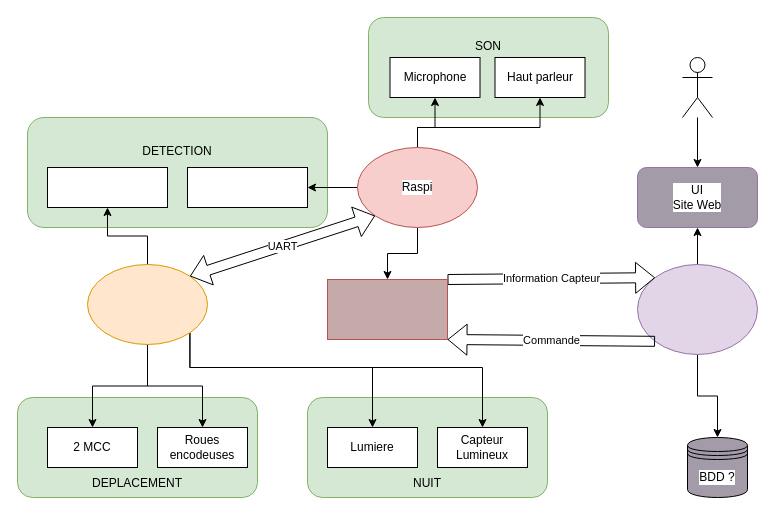
This 775x515 diagram has some shape labels left out. The centre of each missing label's shape, as x and y in pixels:
"Camera (QRCode)" goes at (x=247, y=187).
"Carte Réseau" goes at (x=387, y=309).
"STM32" goes at (x=147, y=304).
"Ultrason" goes at (x=107, y=187).
"Utilisateur" goes at (x=697, y=87).
"WEB" goes at (x=697, y=309).
